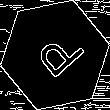P_SW: (25, 25, 85, 85)
